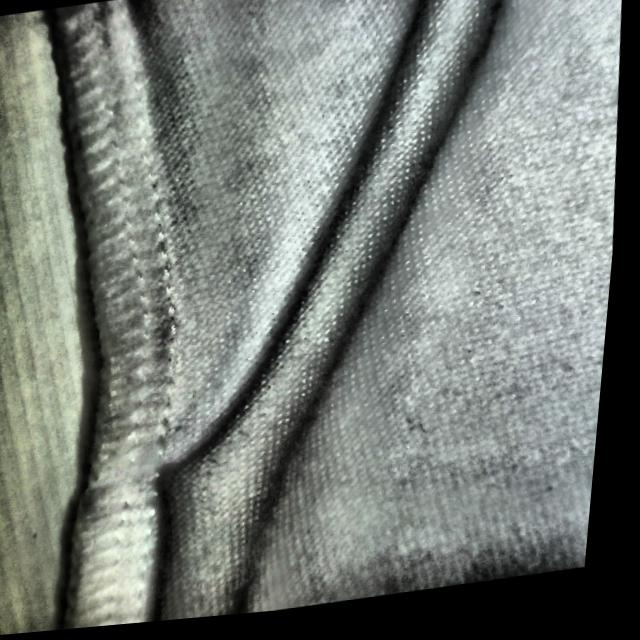seam: (63, 376, 297, 591)
